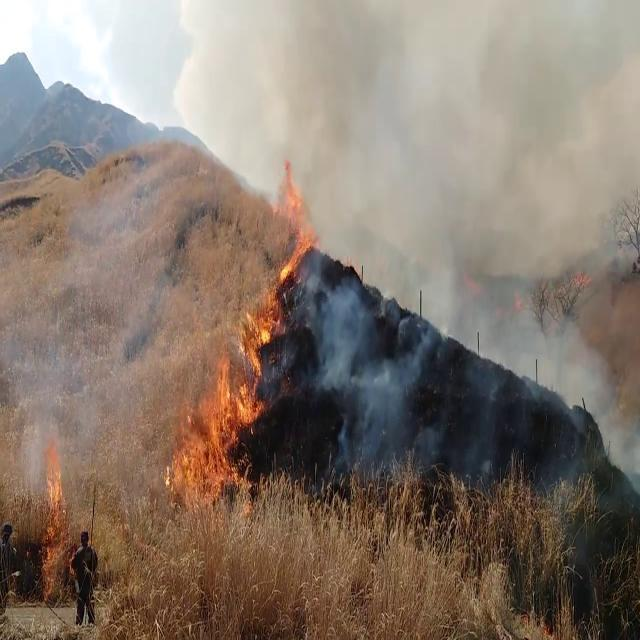Fire: (166, 286, 274, 505), (272, 162, 316, 296), (41, 429, 66, 518)
Smoke: (321, 13, 640, 474)
